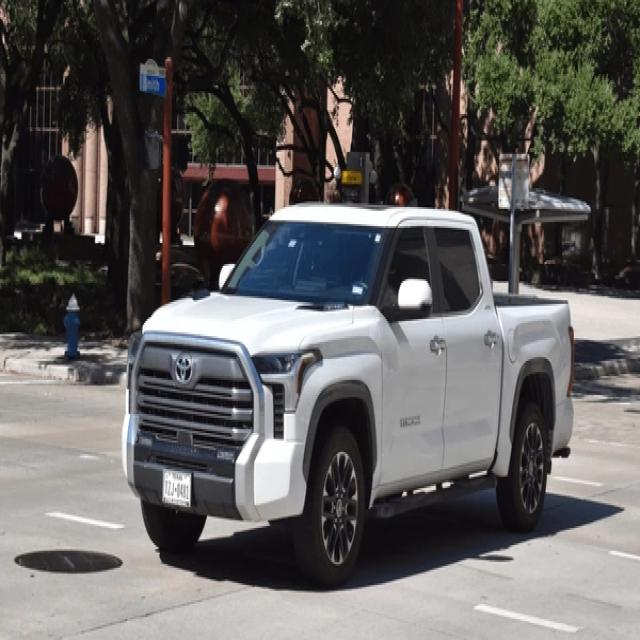toyota: (170, 352, 194, 385)
